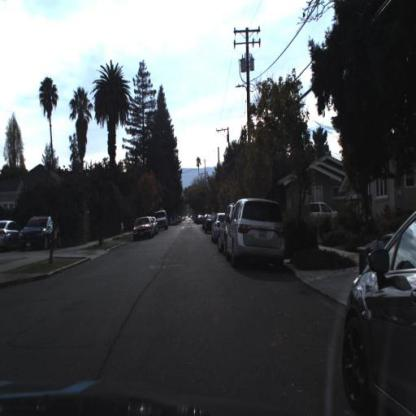car: (341, 202, 416, 416), (224, 195, 286, 272), (17, 212, 62, 253), (213, 199, 242, 256), (217, 201, 232, 254), (132, 217, 153, 241), (211, 212, 225, 243), (154, 210, 170, 229), (206, 216, 215, 237)
